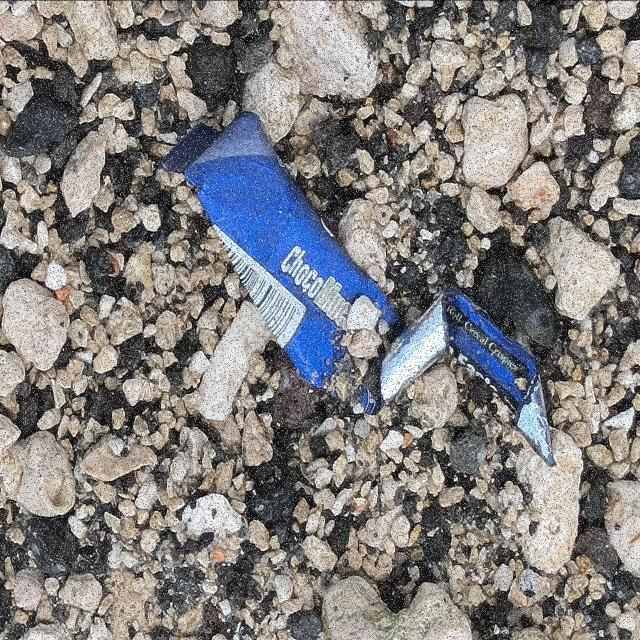plastic_waste: (157, 108, 559, 472)
